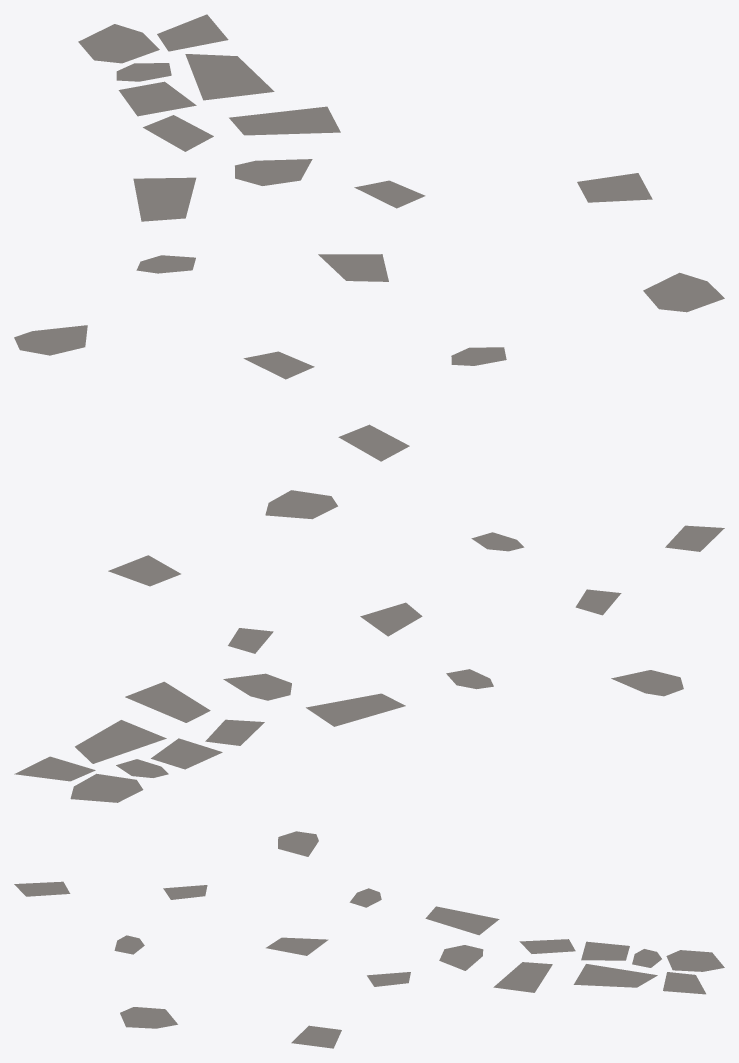
Rendered from SF_Env_Stonepath_End_01.fbx.
The picture shows the model from 3 angles, top to bottom: view 1: azimuth 30°, elevation 25°; view 2: azimuth 150°, elevation 25°; view 3: azimuth 270°, elevation 25°; orthographic projection. The views are drawn at different scales.
Visible parts, largest first — view 1: SF_Env_Stonepath_End_01; view 2: SF_Env_Stonepath_End_01; view 3: SF_Env_Stonepath_End_01.
Boxes of the visible parts, bbox=[...] form: SF_Env_Stonepath_End_01: bbox=[14, 14, 724, 461]; SF_Env_Stonepath_End_01: bbox=[14, 490, 724, 802]; SF_Env_Stonepath_End_01: bbox=[14, 831, 724, 1048].
Size of the model in its own units: 14.12 by 0 by 19.52.
